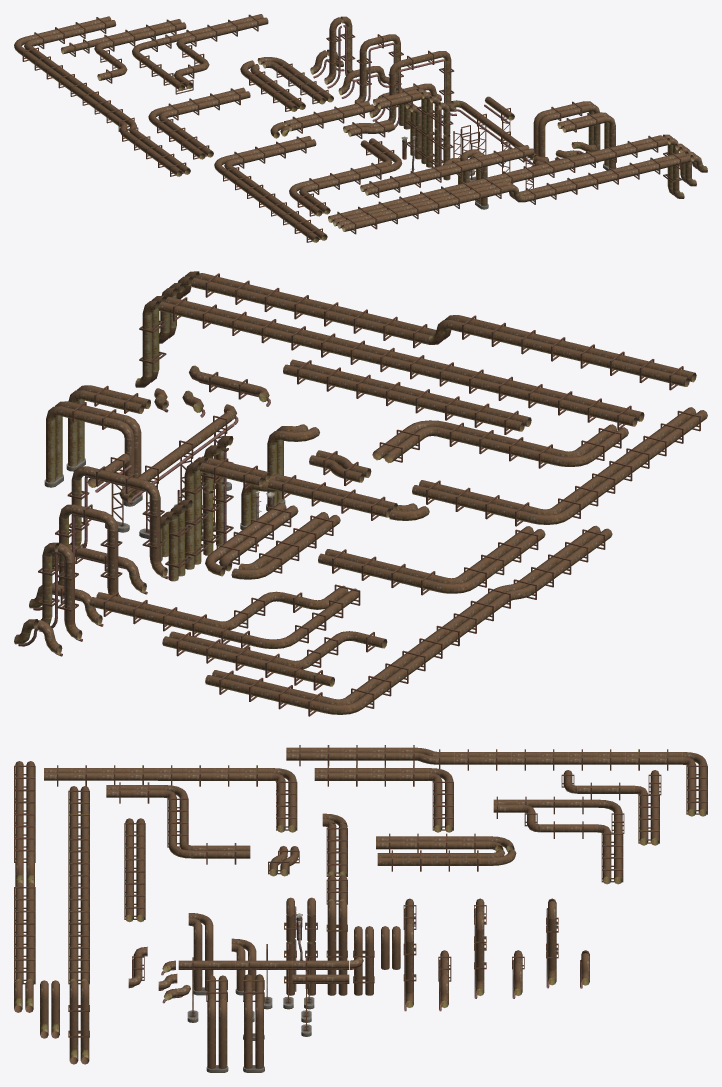
File: Pipes_set_v1.FBX
3 renders of one model, top to bottom at view 1: azimuth 30°, elevation 25°; view 2: azimuth 150°, elevation 25°; view 3: azimuth 270°, elevation 25°, orthographic. The views are drawn at different scales.
Parts seen in each view (by area): view 1: Pipes_set_v1_H_set_v16, Pipes_set_v1_H_set_v11, Pipes_set_v1_H_set_v14, Pipes_set_v1_H_set_v7, Pipes_set_v1_H_set_v9, Pipes_set_v1_H_set_v6, Pipes_set_v1_H_set_v15, Pipes_set_v1_H_set_v8, Pipes_set_v1_H_set_v10, Pipes_set_v1_U_set_v1, Pipes_set_v1_V_set_v9, Pipes_set_v1_U_set_v3 (+17 smaller); view 2: Pipes_set_v1_H_set_v11, Pipes_set_v1_H_set_v16, Pipes_set_v1_H_set_v14, Pipes_set_v1_H_set_v7, Pipes_set_v1_H_set_v9, Pipes_set_v1_H_set_v6, Pipes_set_v1_H_set_v8, Pipes_set_v1_H_set_v15, Pipes_set_v1_H_set_v10, Pipes_set_v1_V_set_v9, Pipes_set_v1_U_set_v1, Pipes_set_v1_H_set_v17 (+20 smaller); view 3: Pipes_set_v1_H_set_v11, Pipes_set_v1_H_set_v16, Pipes_set_v1_H_set_v7, Pipes_set_v1_H_set_v14, Pipes_set_v1_H_set_v9, Pipes_set_v1_H_set_v6, Pipes_set_v1_H_set_v8, Pipes_set_v1_H_set_v10, Pipes_set_v1_H_set_v1, Pipes_set_v1_H_set_v15, Pipes_set_v1_H_set_v17, Pipes_set_v1_V_set_v8 (+18 smaller).
Part boxes in pixels (<box>): Pipes_set_v1_H_set_v16: <box>337,152,690,234</box>; Pipes_set_v1_H_set_v11: <box>14,16,190,176</box>; Pipes_set_v1_H_set_v14: <box>328,135,667,226</box>; Pipes_set_v1_H_set_v7: <box>214,136,327,242</box>; Pipes_set_v1_H_set_v9: <box>132,14,268,94</box>; Pipes_set_v1_H_set_v6: <box>289,138,402,216</box>; Pipes_set_v1_H_set_v15: <box>360,145,534,197</box>; Pipes_set_v1_H_set_v8: <box>148,87,250,159</box>; Pipes_set_v1_H_set_v10: <box>61,19,186,83</box>; Pipes_set_v1_U_set_v1: <box>386,50,456,132</box>; Pipes_set_v1_V_set_v9: <box>533,101,600,163</box>; Pipes_set_v1_U_set_v3: <box>354,34,403,103</box>; Pipes_set_v1_H_set_v11: <box>205,525,612,716</box>; Pipes_set_v1_H_set_v16: <box>191,273,696,390</box>; Pipes_set_v1_H_set_v14: <box>158,296,644,429</box>; Pipes_set_v1_H_set_v7: <box>412,407,707,526</box>; Pipes_set_v1_H_set_v9: <box>89,584,360,648</box>; Pipes_set_v1_H_set_v6: <box>372,420,628,468</box>; Pipes_set_v1_H_set_v8: <box>318,526,545,595</box>; Pipes_set_v1_H_set_v15: <box>283,359,531,434</box>; Pipes_set_v1_H_set_v10: <box>162,631,387,690</box>; Pipes_set_v1_V_set_v9: <box>44,401,142,506</box>; Pipes_set_v1_U_set_v1: <box>67,466,168,579</box>; Pipes_set_v1_H_set_v17: <box>231,512,340,579</box>; Pipes_set_v1_H_set_v11: <box>286,745,707,816</box>; Pipes_set_v1_H_set_v16: <box>14,761,35,984</box>; Pipes_set_v1_H_set_v7: <box>44,765,297,832</box>; Pipes_set_v1_H_set_v14: <box>68,786,89,984</box>; Pipes_set_v1_H_set_v9: <box>493,796,624,884</box>; Pipes_set_v1_H_set_v6: <box>106,782,250,864</box>; Pipes_set_v1_H_set_v8: <box>314,765,453,832</box>; Pipes_set_v1_H_set_v10: <box>561,770,661,845</box>; Pipes_set_v1_H_set_v1: <box>178,957,349,1022</box>; Pipes_set_v1_H_set_v15: <box>124,818,145,922</box>; Pipes_set_v1_H_set_v17: <box>376,833,514,852</box>; Pipes_set_v1_V_set_v8: <box>206,975,228,1072</box>.
Bounding box in the file's own units: 46.14 × 9.55 × 55.83.
